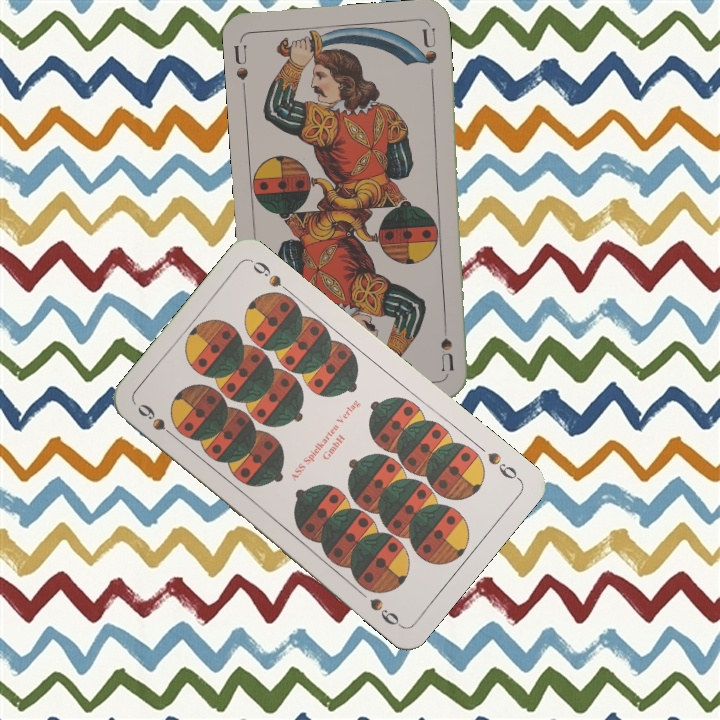S9: (133, 399, 182, 444), (483, 447, 523, 484)
SU: (437, 313, 457, 373), (230, 41, 251, 82)
